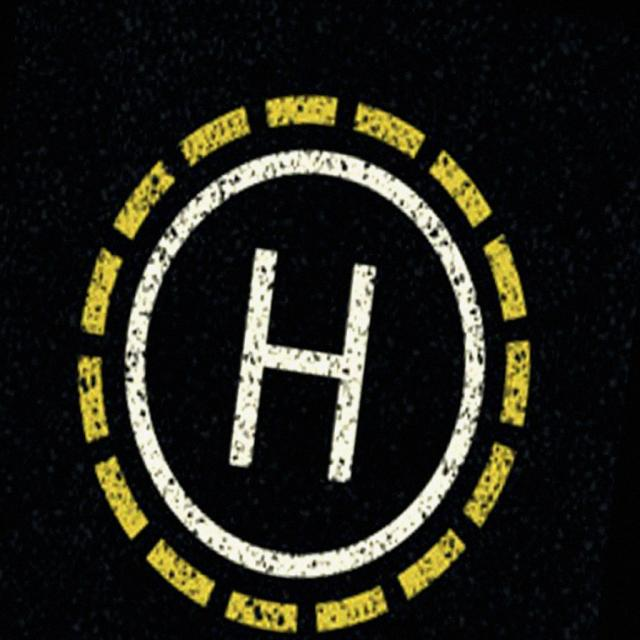helipad: (121, 145, 490, 582)
